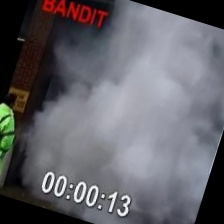smoke: (13, 0, 224, 224)
